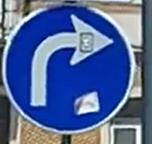Sentido obrigatorio: (1, 1, 144, 142)
